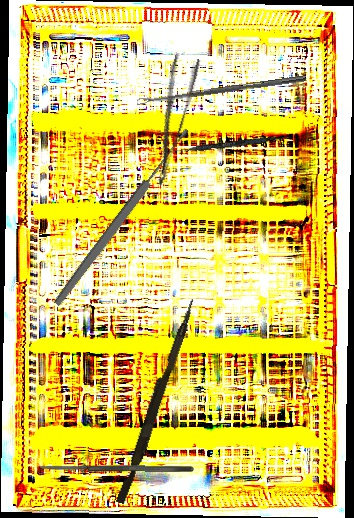Dressing Forceps: (136, 52, 204, 187)
Pusher: (115, 296, 197, 506)
Spatula Surgical: (166, 132, 291, 157), (38, 462, 195, 474)
Surgical Spoon: (51, 126, 193, 308), (136, 74, 307, 105)
